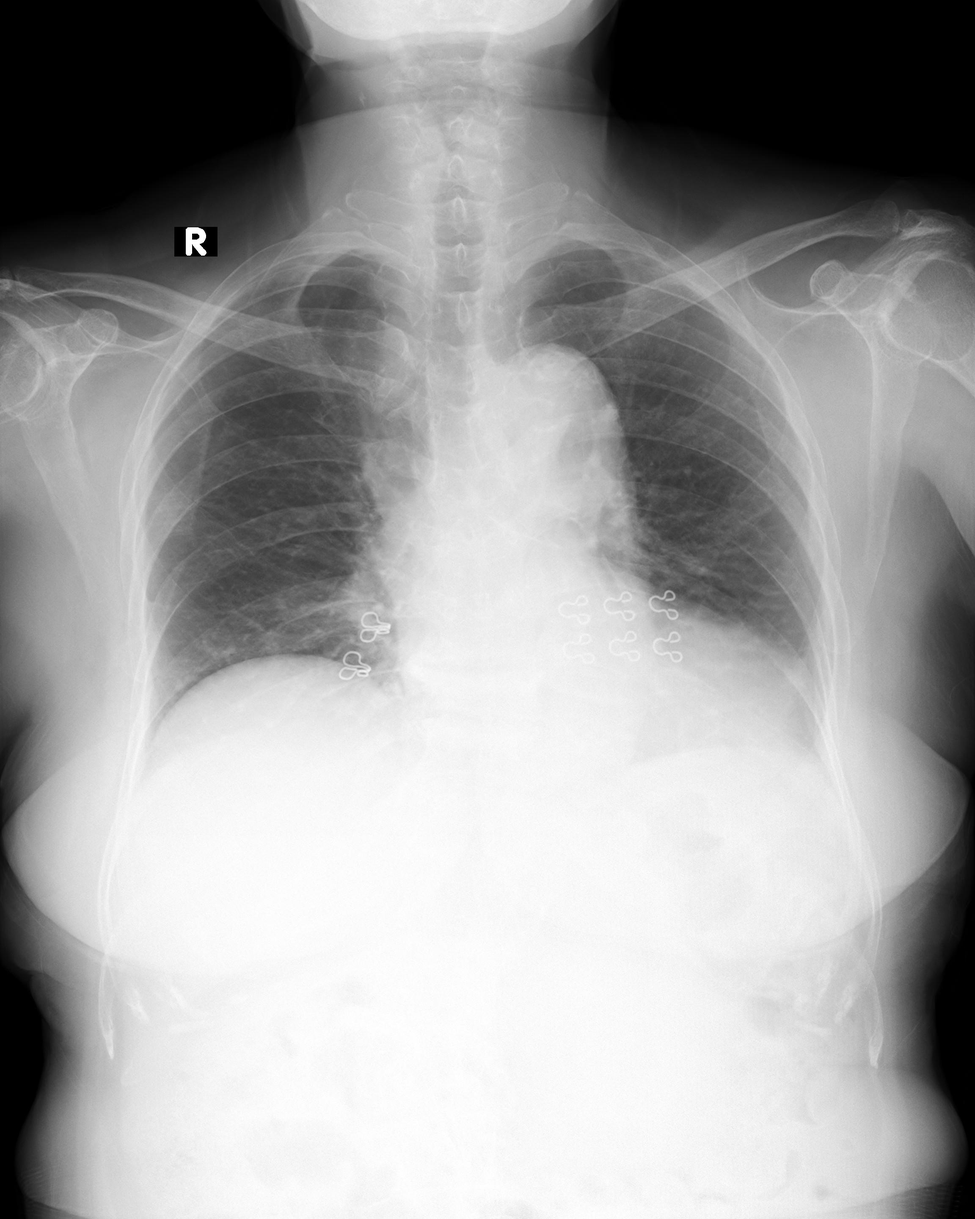Aortic enlargement: (468, 345, 622, 478)
Cardiomegaly: (337, 576, 810, 713)
